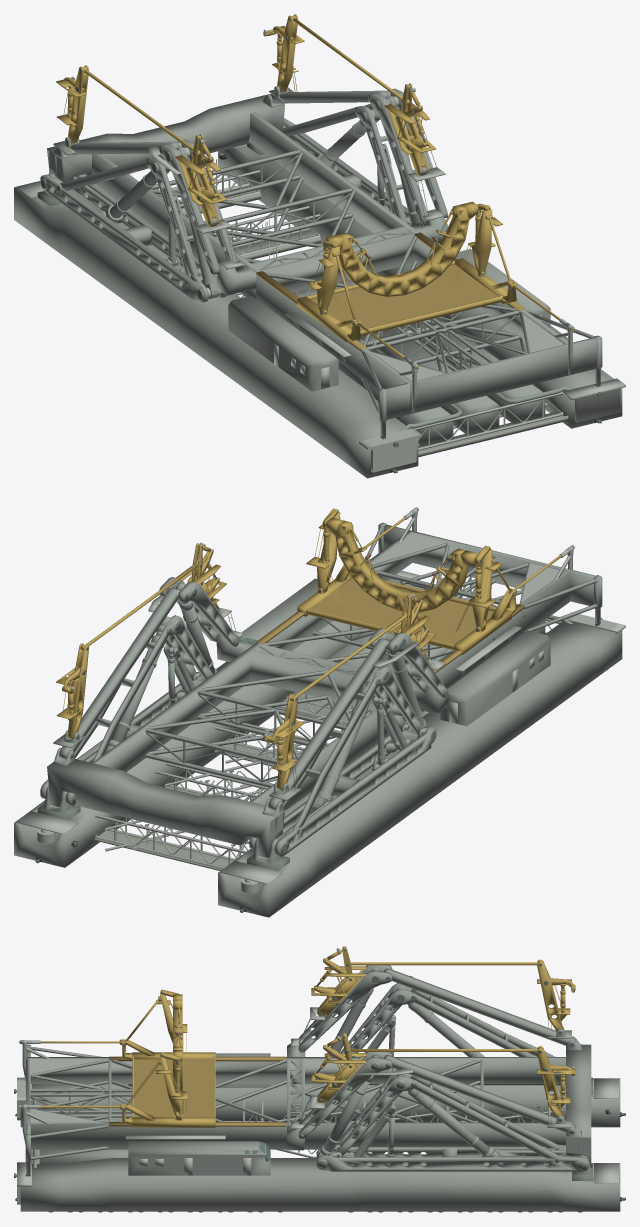
3 views of the same model, one above another, from view 1: azimuth 30°, elevation 25°; view 2: azimuth 150°, elevation 25°; view 3: azimuth 270°, elevation 25° (orthographic). The views are drawn at different scales.
Visible parts, largest first — view 1: Box186, Box24.001, Box14, Box02.002, Box187, Line01, Cylinder03.001; view 2: Box186, Box24.001, Box14, Box02.002, Box187, Cylinder03.001, Box03.002; view 3: Box186, Box24.001, Box14, Box02.002, Cylinder03.001.
Boxes of the visible parts, x1,y1,x2,y2 form: Box186: (14, 86, 622, 478); Box24.001: (56, 14, 574, 368); Box14: (16, 29, 625, 472); Box02.002: (256, 232, 524, 351); Box187: (178, 185, 568, 457); Line01: (53, 87, 572, 430); Cylinder03.001: (40, 17, 510, 324); Box186: (14, 507, 622, 917); Box24.001: (56, 508, 561, 789); Box14: (16, 507, 625, 893); Box02.002: (256, 579, 524, 672); Box187: (94, 632, 546, 870); Cylinder03.001: (70, 510, 516, 853); Box03.002: (37, 758, 374, 870); Box186: (20, 965, 620, 1211); Box24.001: (19, 946, 575, 1127); Box14: (17, 947, 619, 1204); Box02.002: (109, 1056, 285, 1126); Cylinder03.001: (120, 949, 586, 1169).
Size of the model in its own units: 28.84 by 22.17 by 69.79.
